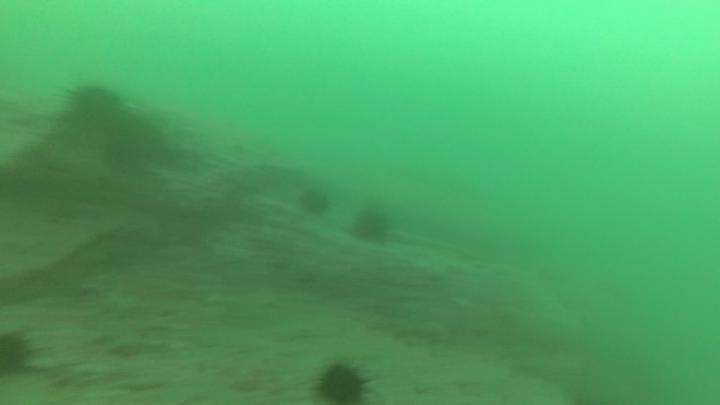echinus: (63, 81, 128, 150), (100, 116, 157, 179), (313, 358, 372, 405), (1, 329, 39, 383), (353, 207, 395, 243), (297, 187, 331, 217)
